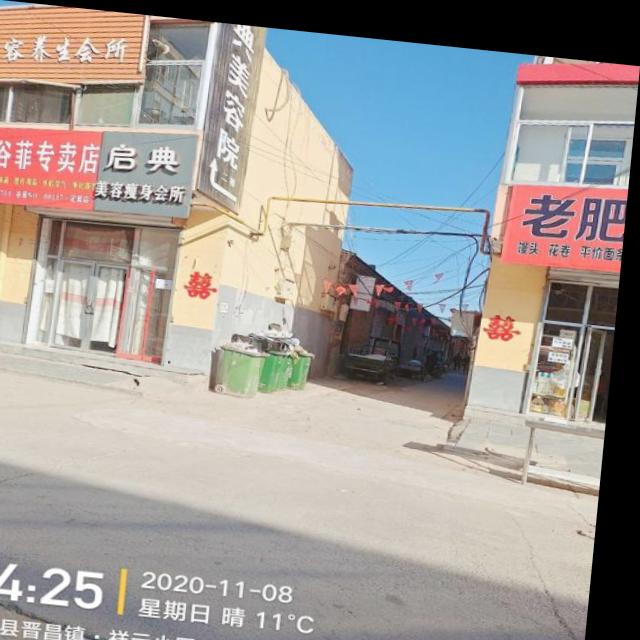overflow: (222, 333, 269, 391), (264, 324, 302, 388), (298, 337, 320, 383)
